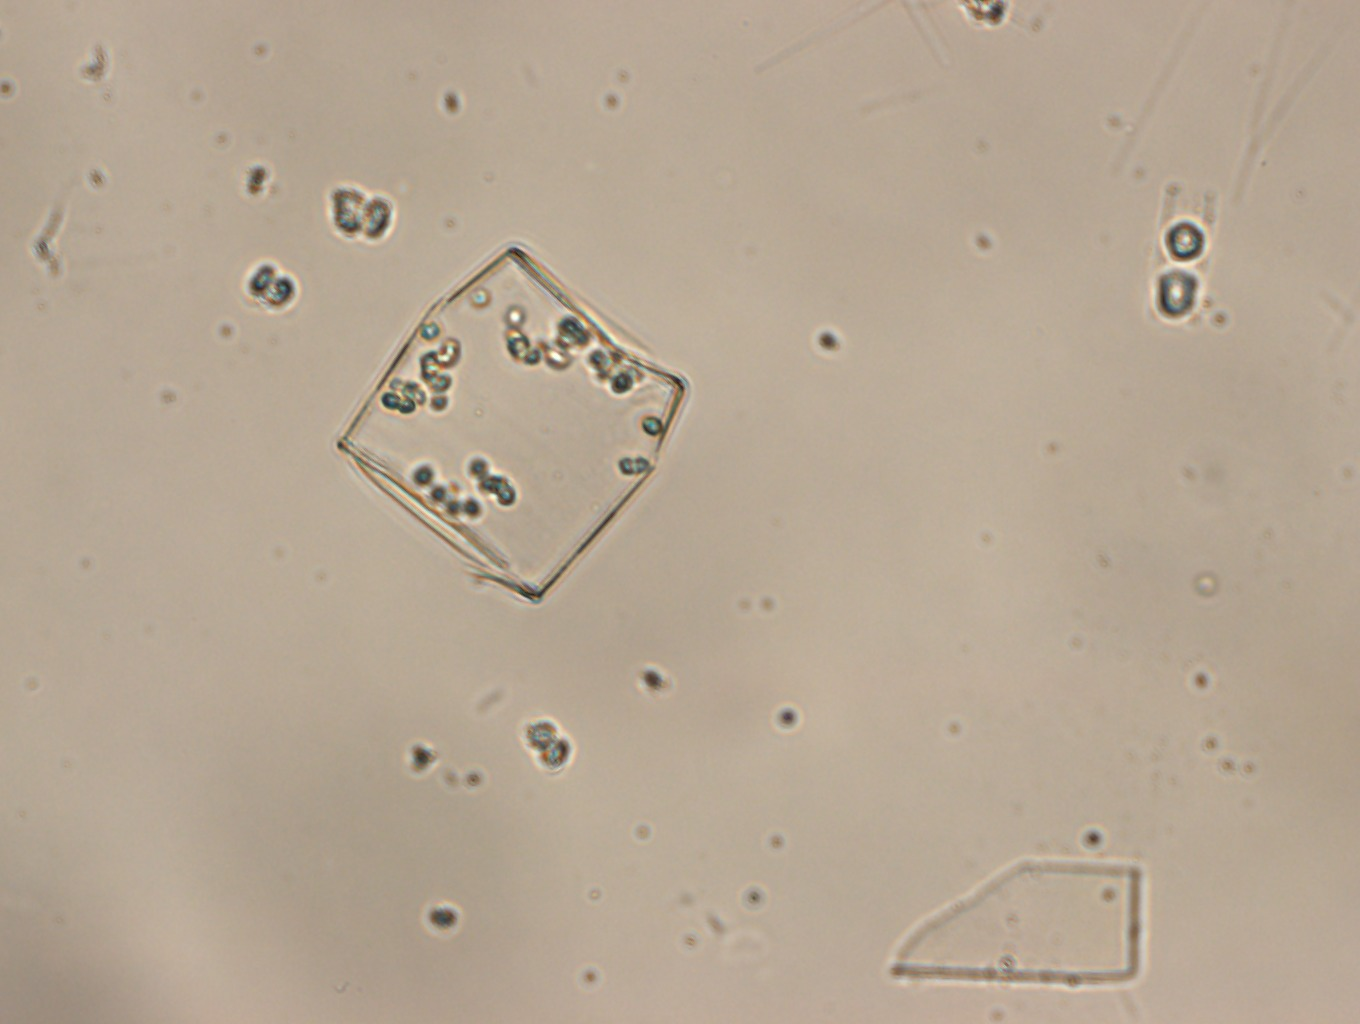guinardia flaccida: (327, 231, 697, 609)
